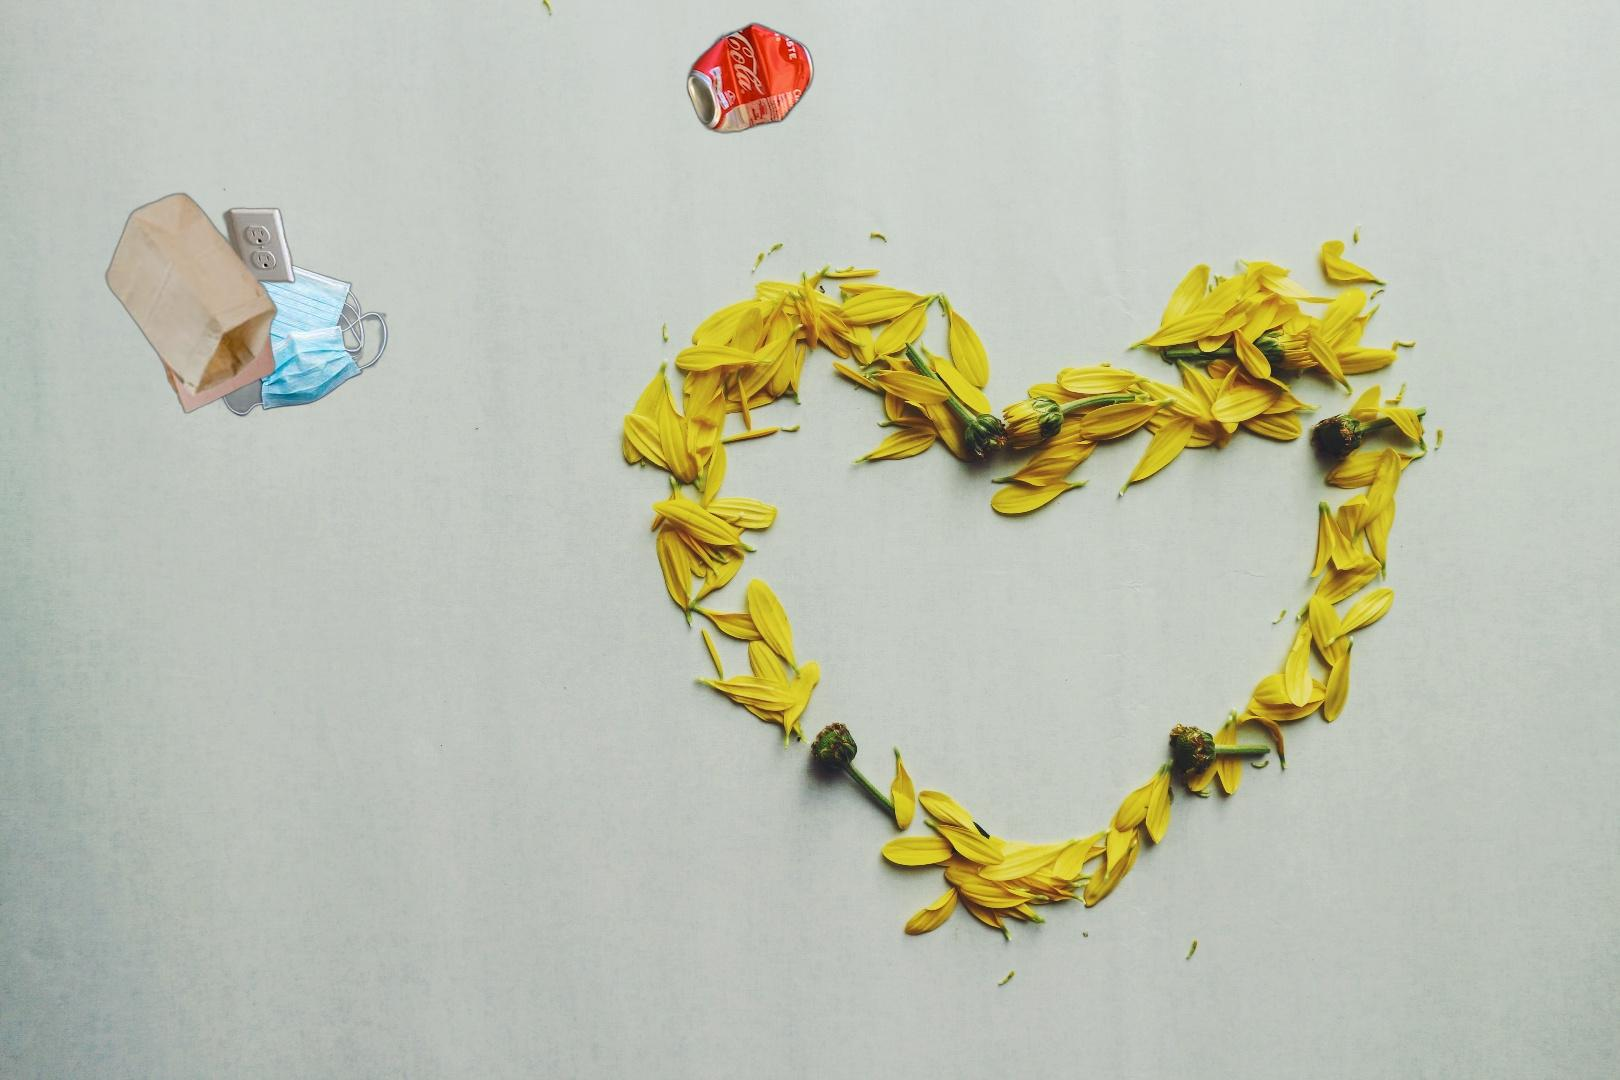metal-cans: (683, 18, 818, 139)
paper-bag: (102, 190, 298, 416)
trash: (162, 241, 391, 424)
